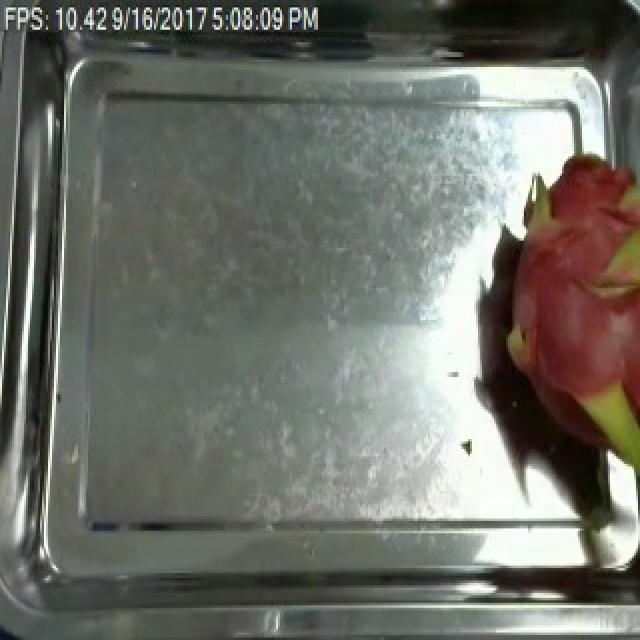fruit: (470, 139, 640, 533)
